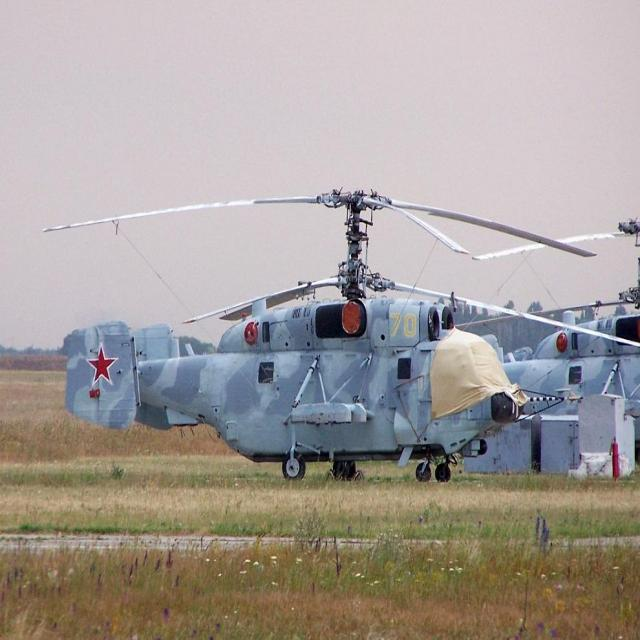MIL_HELO: (6, 179, 596, 493)
